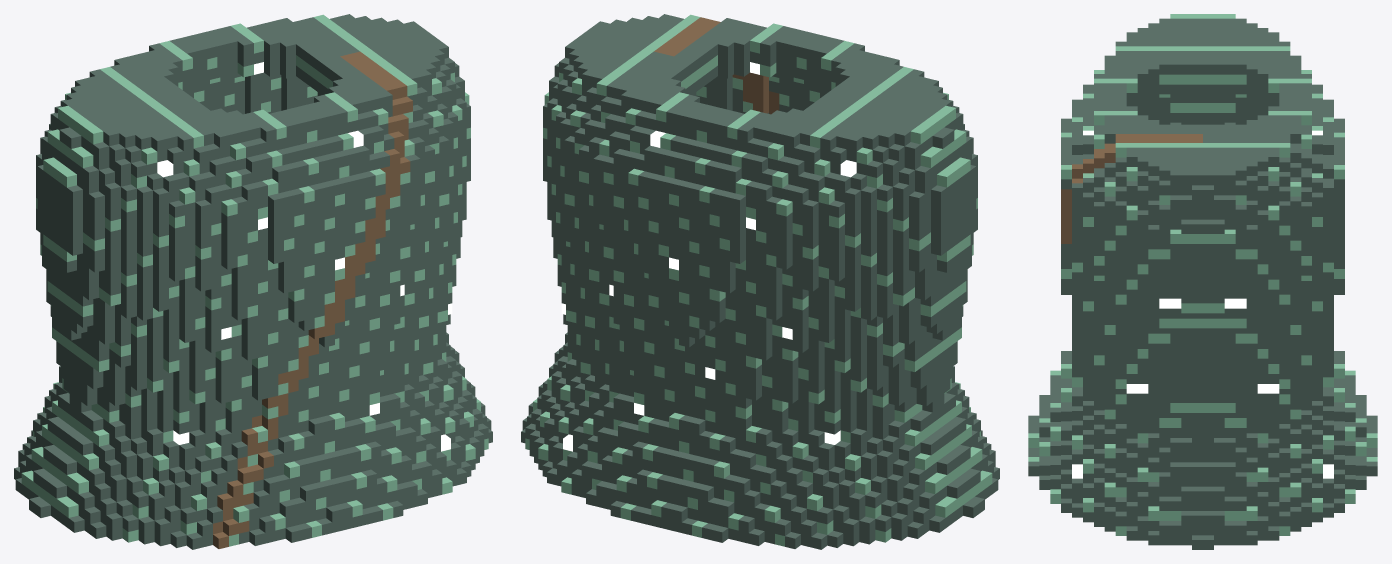
Rendered from mystic_common_chest.glb.
3 views of the same model, side by side, from view 1: azimuth 30°, elevation 25°; view 2: azimuth 150°, elevation 25°; view 3: azimuth 270°, elevation 25° (orthographic). The views are drawn at different scales.
Parts seen in each view (by area): view 1: mystic_common_chest; view 2: mystic_common_chest; view 3: mystic_common_chest.
Boxes of the visible parts, box(x1,y1,x2,y2) form: mystic_common_chest: box(14, 14, 492, 549); mystic_common_chest: box(521, 14, 999, 549); mystic_common_chest: box(1028, 14, 1377, 549).
Bounding box in the file's own units: 0.516 × 0.432 × 0.384.
